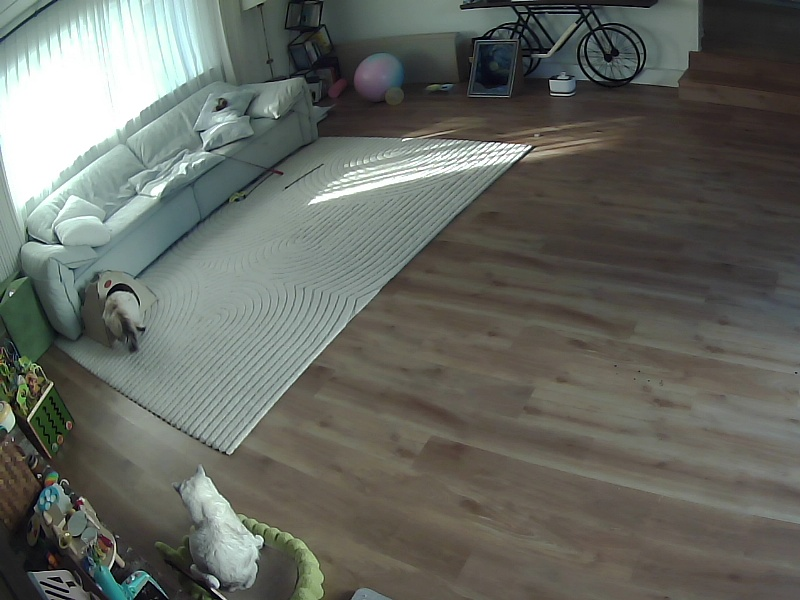Qb-2: (173, 465, 263, 590)
Qbo-2: (103, 284, 144, 351)
